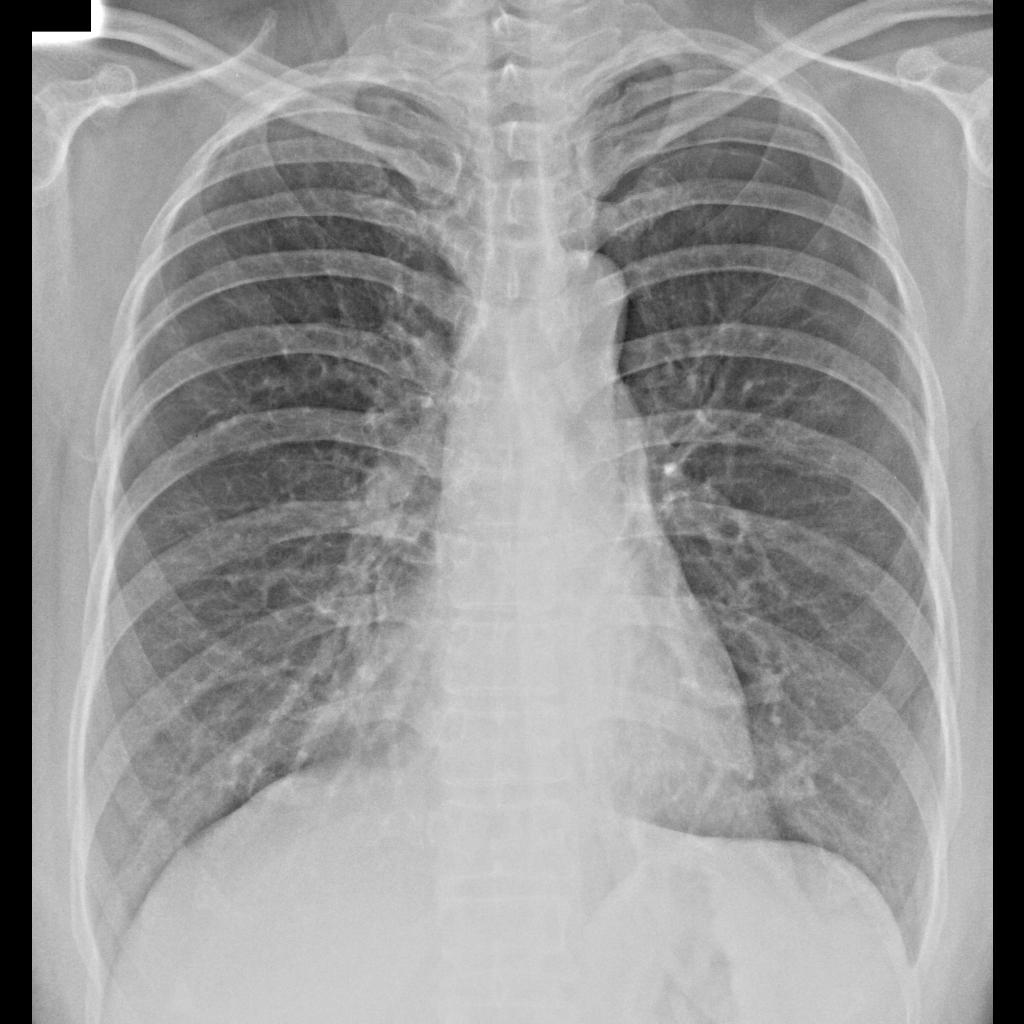Nodule: (770, 746, 823, 799)
